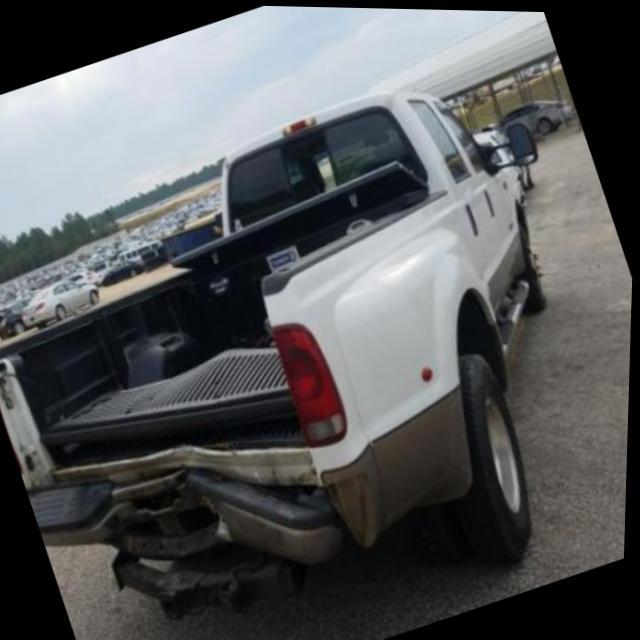dent: (25, 428, 378, 611)
